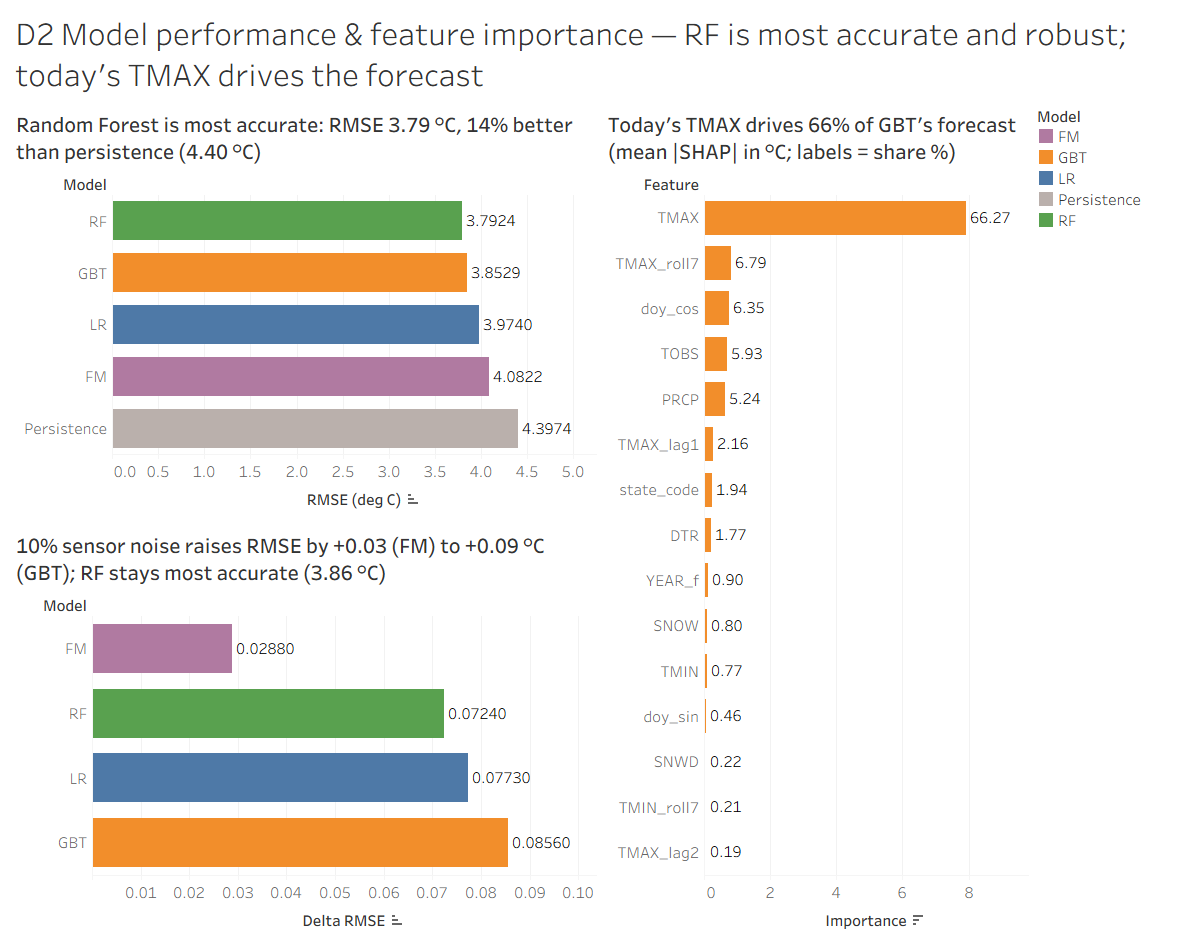

This screenshot's page, from the dashboard's own definition file:
{"tool":"tableau","page":{"name":"D2 Model performance & feature importance","canvas":[1200,950],"ordinal":1},"visuals":[{"type":"title","box":[8,8,1184,92]},{"type":"worksheet","title":"D2 RMSE","mark":"Automatic","rows":["Model"],"cols":["RMSE (deg C)"],"box":[8,100,592,421]},{"type":"worksheet","title":"D2 SHAP","mark":"Automatic","rows":["Feature"],"cols":["Importance"],"box":[600,100,432,842]},{"type":"legend","title":"D2 RMSE","param":"[federated.0a410o10wlx3oh1d8oq4d0dfupao].[none:Model:nk]","box":[1032,100,160,135]},{"type":"worksheet","title":"D2 stability","mark":"Automatic","rows":["Model"],"cols":["Delta RMSE"],"box":[8,521,592,421]}]}

Visuals, with their boxes in screenshot pixels (x1, y1, x2, y2), scaled from the page's 1200x950 canvas onto the 1200x950 screenshot:
title: detection(8, 8, 1192, 100)
"D2 RMSE" worksheet: detection(8, 100, 600, 521)
"D2 SHAP" worksheet: detection(600, 100, 1032, 942)
"D2 RMSE" legend: detection(1032, 100, 1192, 235)
"D2 stability" worksheet: detection(8, 521, 600, 942)
